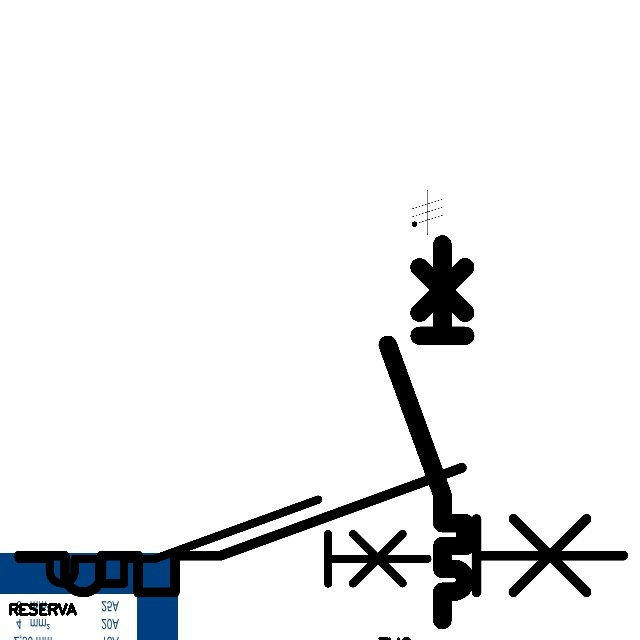interruptor_termomagnetico: (3, 452, 638, 608), (8, 489, 438, 594), (378, 234, 475, 629)
